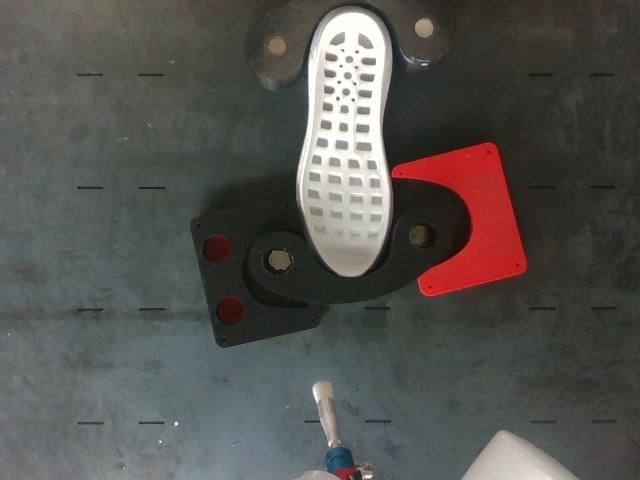shoes: (302, 13, 390, 276)
